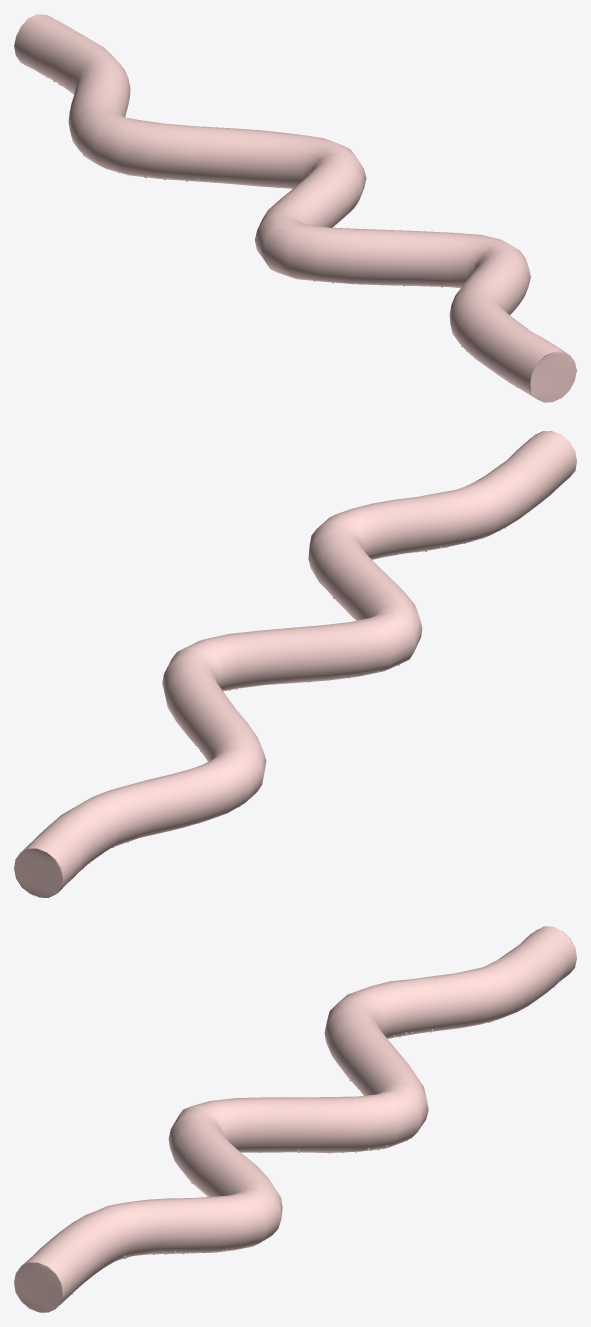
Rendered from stage_intestine.glb.
3 renders of one model, top to bottom at view 1: azimuth 30°, elevation 25°; view 2: azimuth 150°, elevation 25°; view 3: azimuth 330°, elevation 25°, orthographic.
Visible parts, largest first — view 1: Intestine; view 2: Intestine; view 3: Intestine.
Part boxes in pixels (bbox=[...]): Intestine: bbox=[14, 14, 576, 402]; Intestine: bbox=[14, 431, 576, 897]; Intestine: bbox=[14, 926, 576, 1312].
Bounding box in the file's own units: 43.22 × 20.16 × 206.
